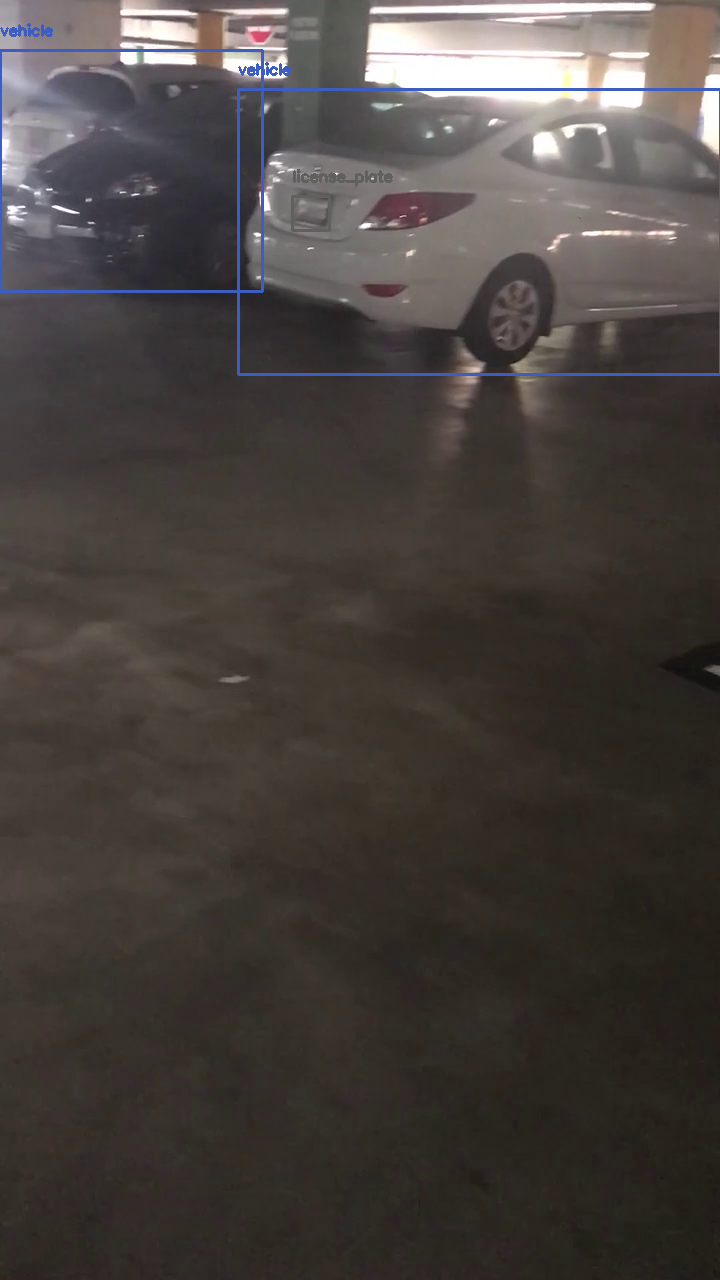license_plate: (292, 196, 329, 230)
vehicle: (238, 89, 720, 374), (0, 50, 262, 291)
